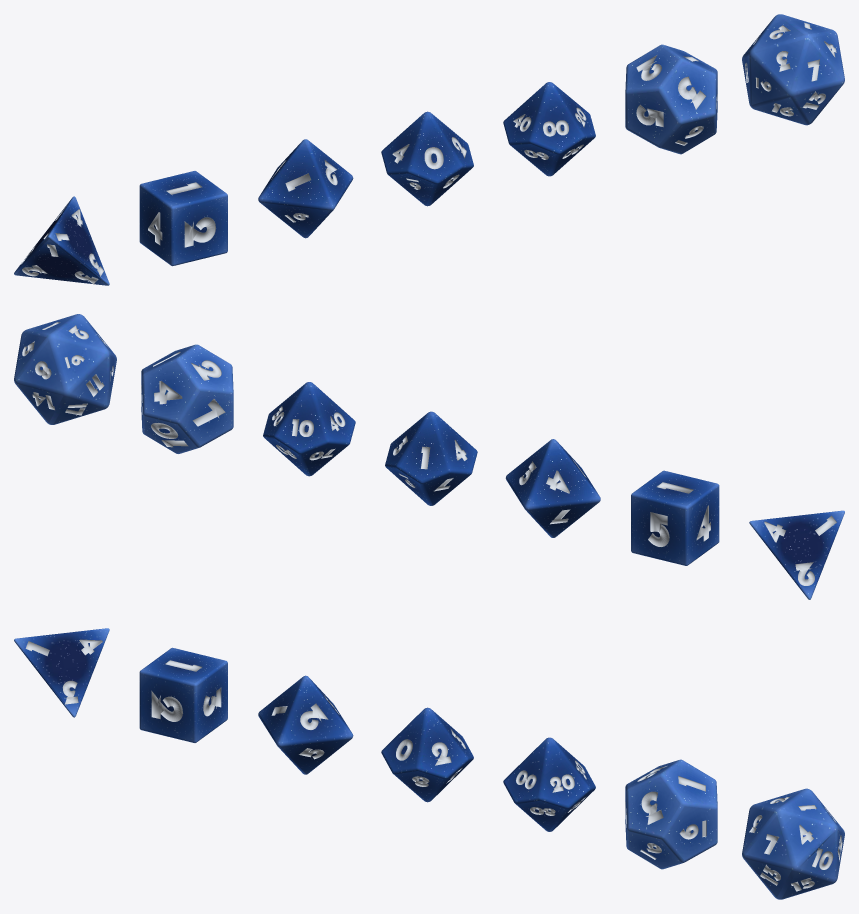
File: cobalt.glb
3 renders of one model, top to bottom at view 1: azimuth 30°, elevation 25°; view 2: azimuth 150°, elevation 25°; view 3: azimuth 330°, elevation 25°, orthographic.
Parts seen in each view (by area): view 1: d20, d12, d6, d100, d10, d8, d4; view 2: d20, d12, d6, d100, d10, d8, d4; view 3: d20, d12, d6, d8, d10, d100, d4.
Part boxes in pixels (x1,y1,x2,y2): d20: (742, 14, 844, 125); d12: (625, 44, 717, 154); d6: (139, 171, 227, 266); d100: (503, 82, 595, 176); d10: (381, 111, 473, 206); d8: (258, 139, 353, 238); d4: (14, 196, 109, 285); d20: (14, 314, 116, 424); d12: (141, 344, 233, 453); d6: (631, 470, 719, 565); d100: (263, 382, 355, 476); d10: (385, 411, 477, 505); d8: (505, 439, 600, 537); d4: (749, 510, 844, 599); d20: (742, 788, 844, 899); d12: (625, 759, 717, 869); d6: (139, 647, 227, 742); d8: (258, 675, 353, 774); d10: (381, 707, 473, 802); d100: (503, 737, 595, 831); d4: (14, 628, 109, 717).
Bounding box in the file's own units: 21.14 × 2.47 × 2.47.
Materials: 14 (7 with a texture image).
